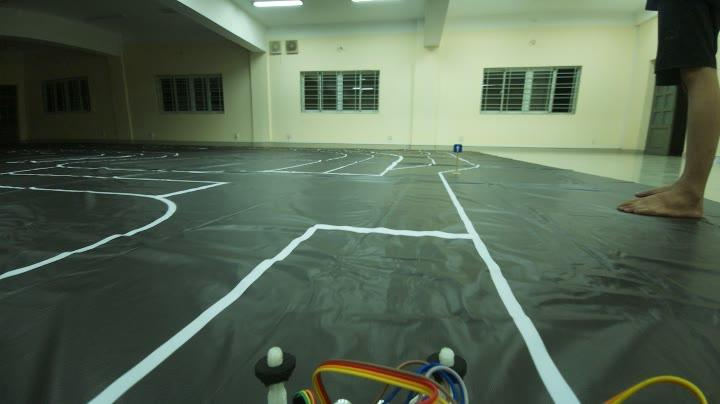onewayroad: (451, 142, 466, 156)
